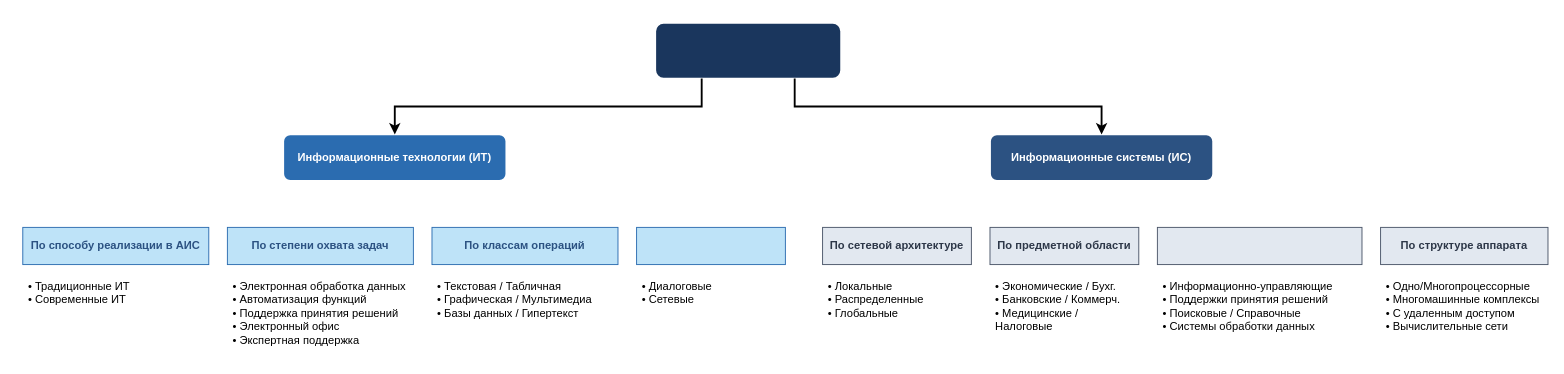
This 1564x374 diagram has some shape labels left out. The centre of each missing label's shape, as x and y in pixels:
Классификация ИТ и ИС: point 748,50
По типу интерфейса: point 710,245
По функциональному назначению: point 1259,245
